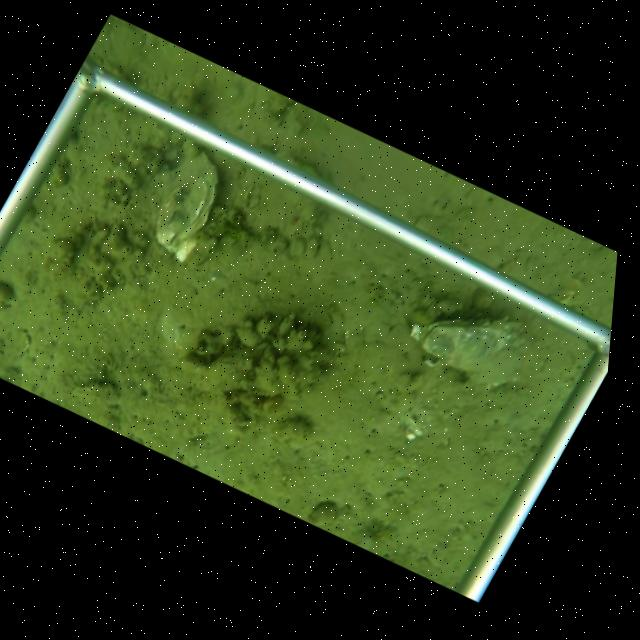Oyster-Closed: (409, 316, 532, 390), (152, 147, 225, 271)
